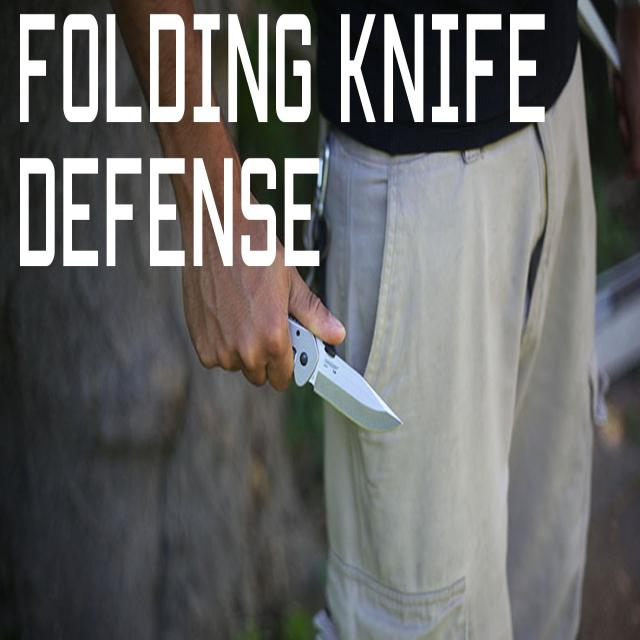knife: (290, 311, 404, 442)
